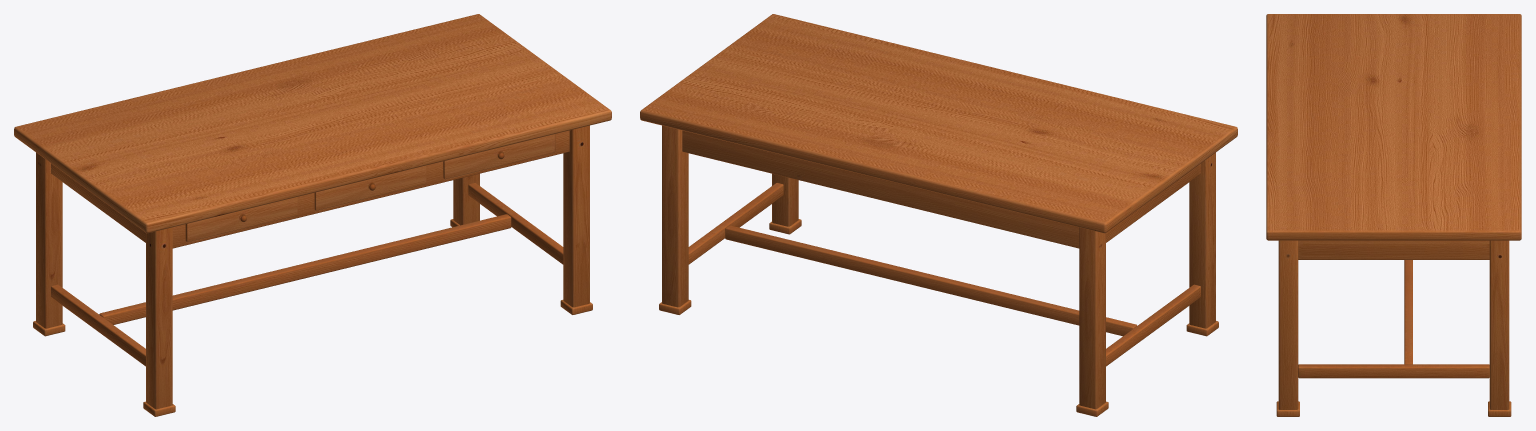
File: room_desk.glb
The picture shows the model from 3 angles, left to right: view 1: azimuth 30°, elevation 25°; view 2: azimuth 150°, elevation 25°; view 3: azimuth 270°, elevation 25°; orthographic projection. The views are drawn at different scales.
Visible parts, largest first — view 1: room_desk; view 2: room_desk; view 3: room_desk.
Part boxes in pixels (<box>): room_desk: <box>14,14,611,416</box>; room_desk: <box>640,14,1237,416</box>; room_desk: <box>1266,14,1521,416</box>.
Bounding box in the file's own units: 210 × 86.5 × 104.
Materials: 1 (1 with a texture image).
